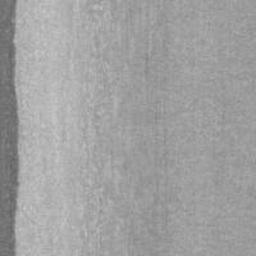Water spot: (0, 0, 22, 256)
